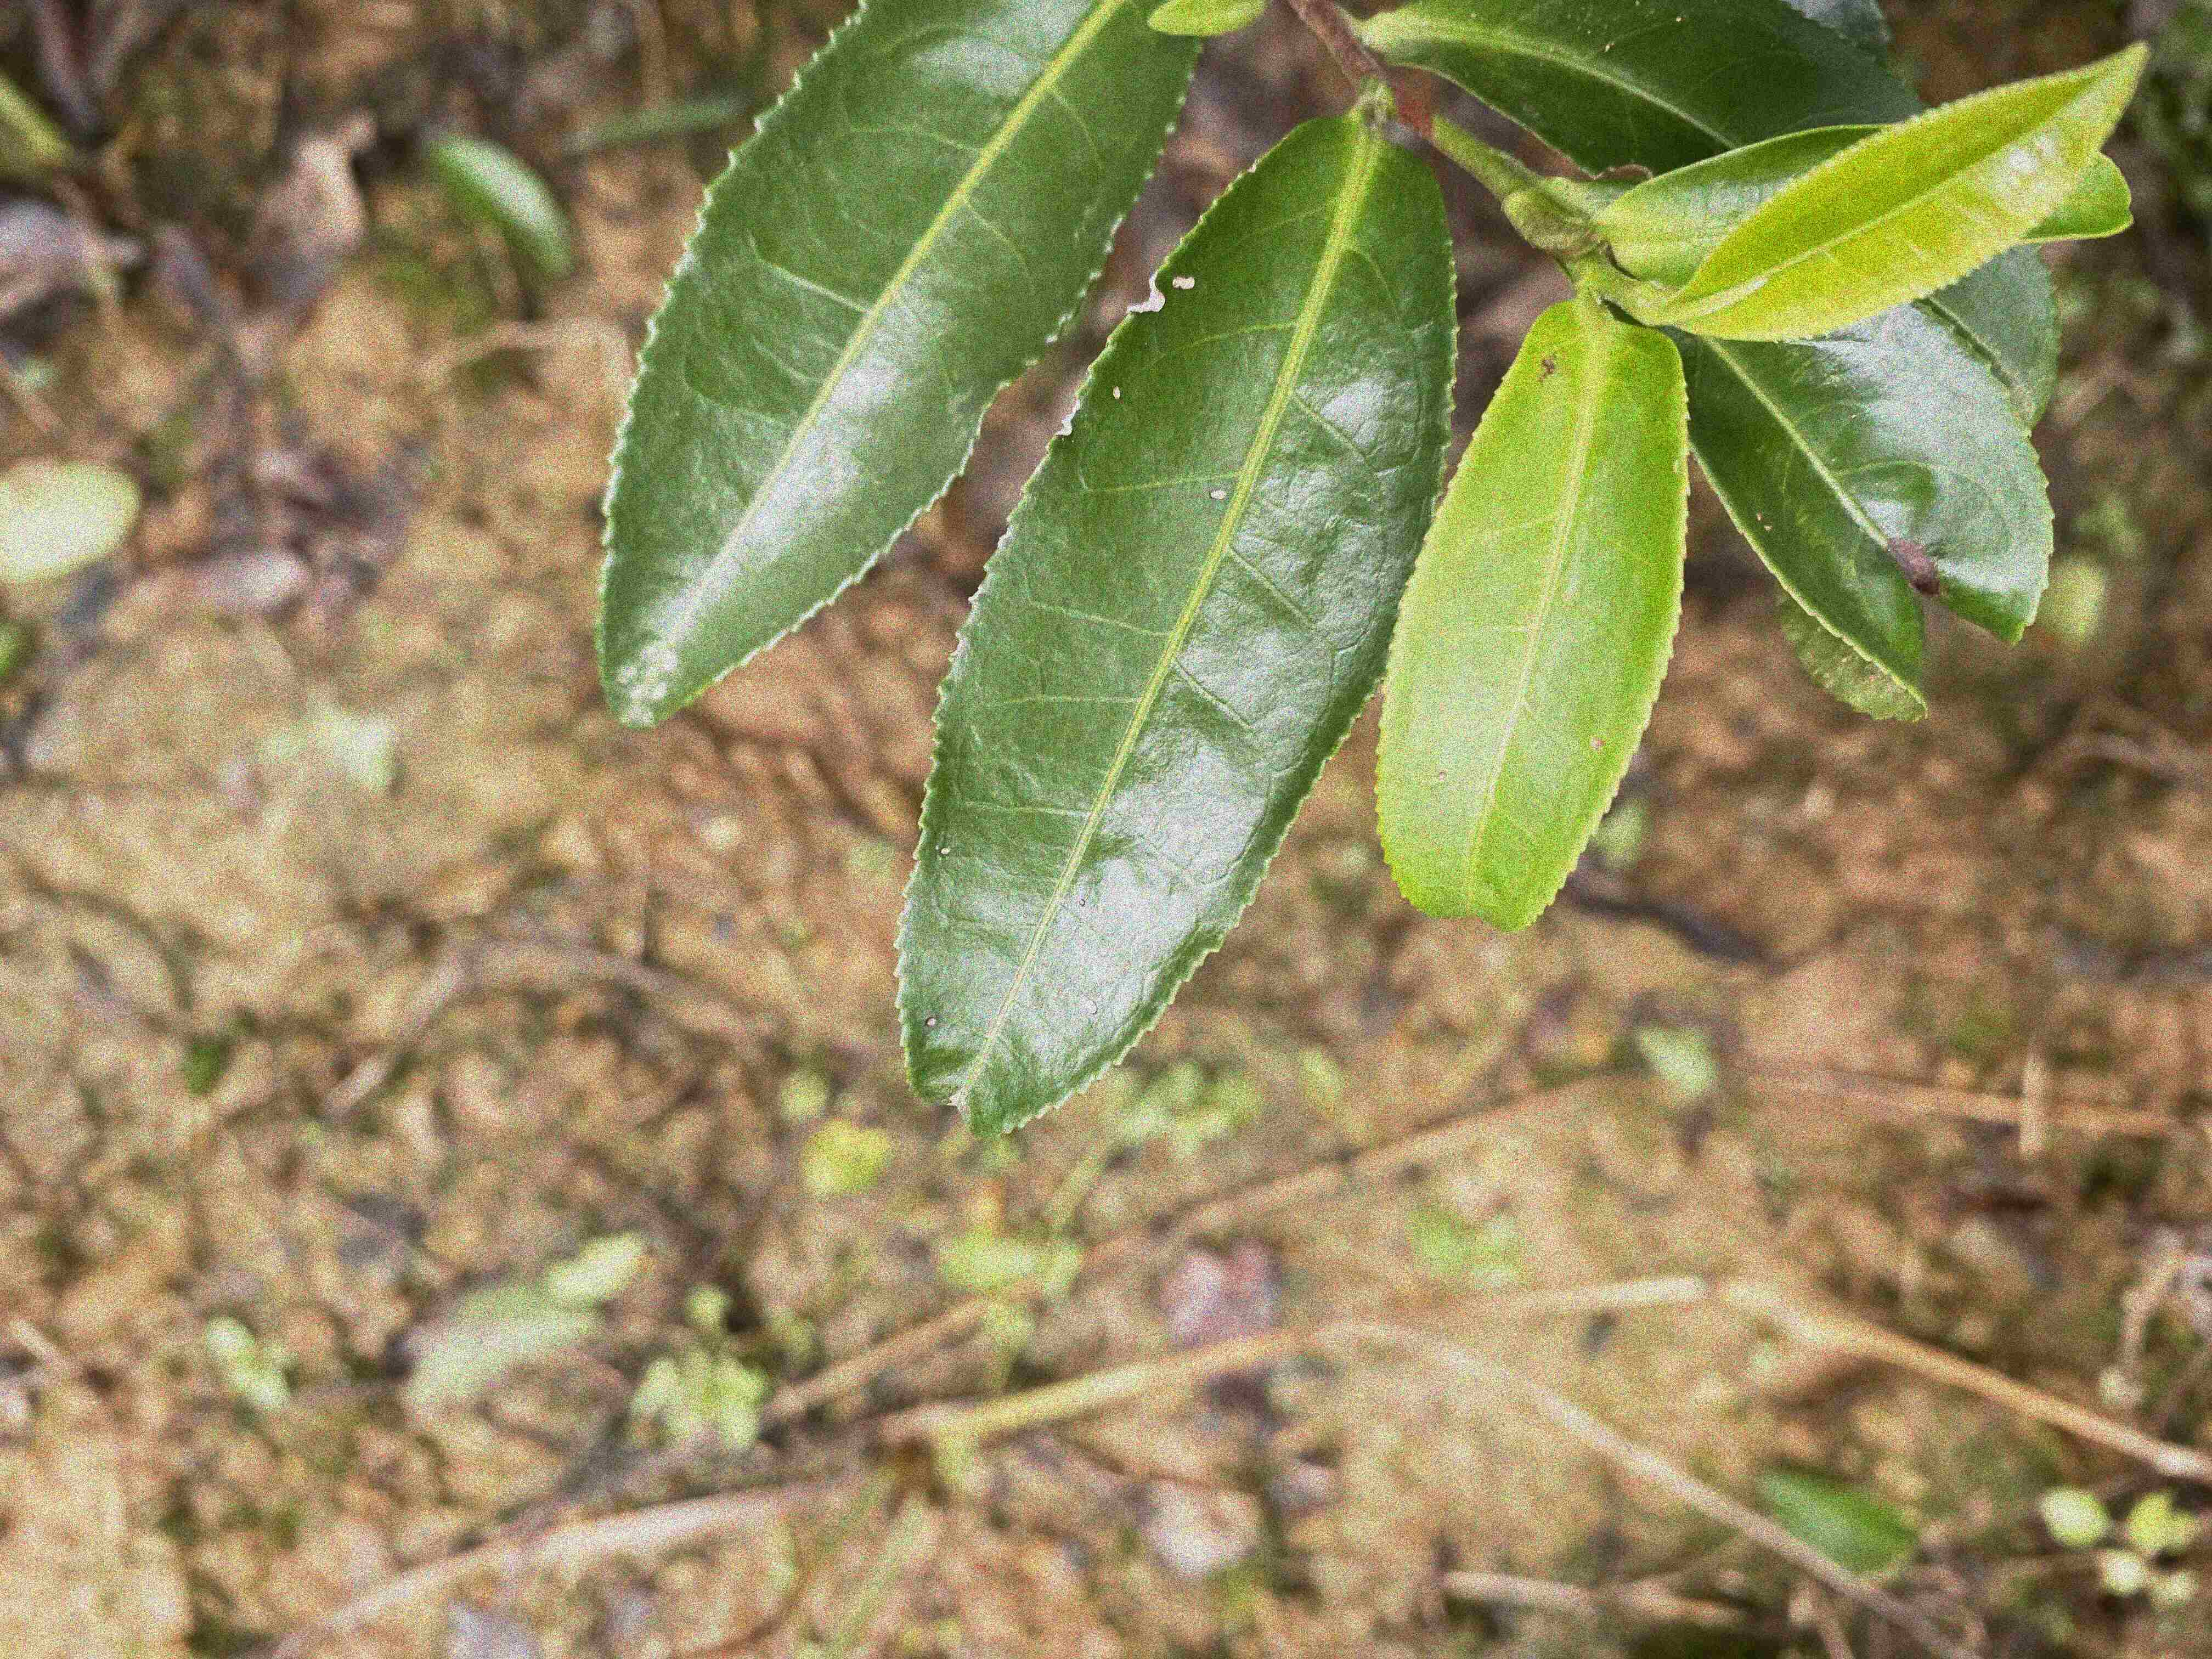healthy: (592, 5, 1200, 728), (1677, 42, 2156, 345)
tanju_high: (1686, 293, 2052, 723)
tanju_low: (895, 112, 1460, 1134), (1372, 301, 1689, 936)
